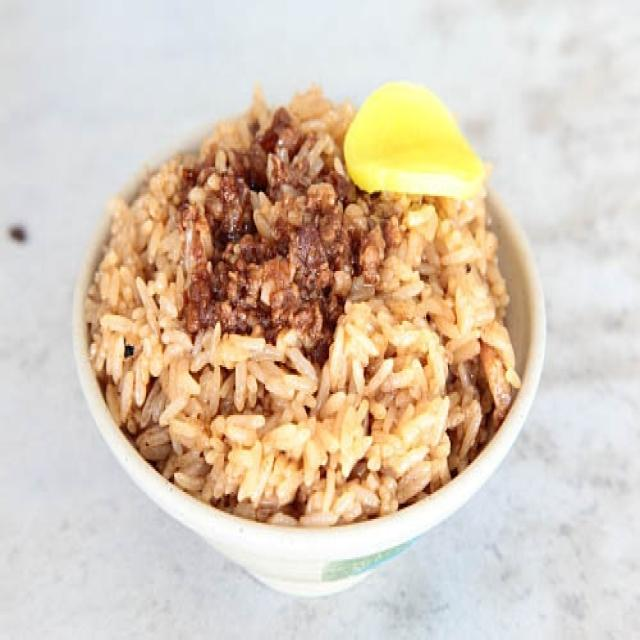米饭主食: (77, 79, 549, 561)
